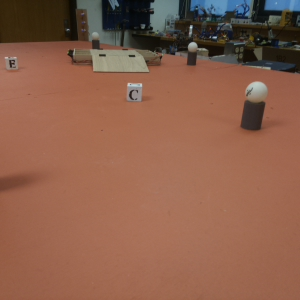blockC: (126, 82, 144, 101)
blockE: (6, 55, 19, 71)
corner: (75, 9, 88, 39)
obstacle: (242, 79, 267, 137), (187, 42, 199, 68), (91, 30, 102, 49)
side: (66, 46, 89, 65), (145, 48, 161, 69)
slope: (91, 54, 149, 74)
